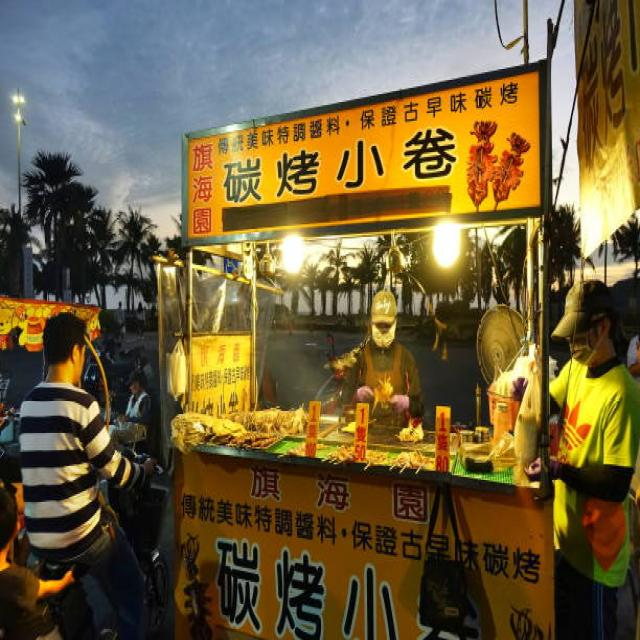Emperan: (159, 47, 575, 640)
